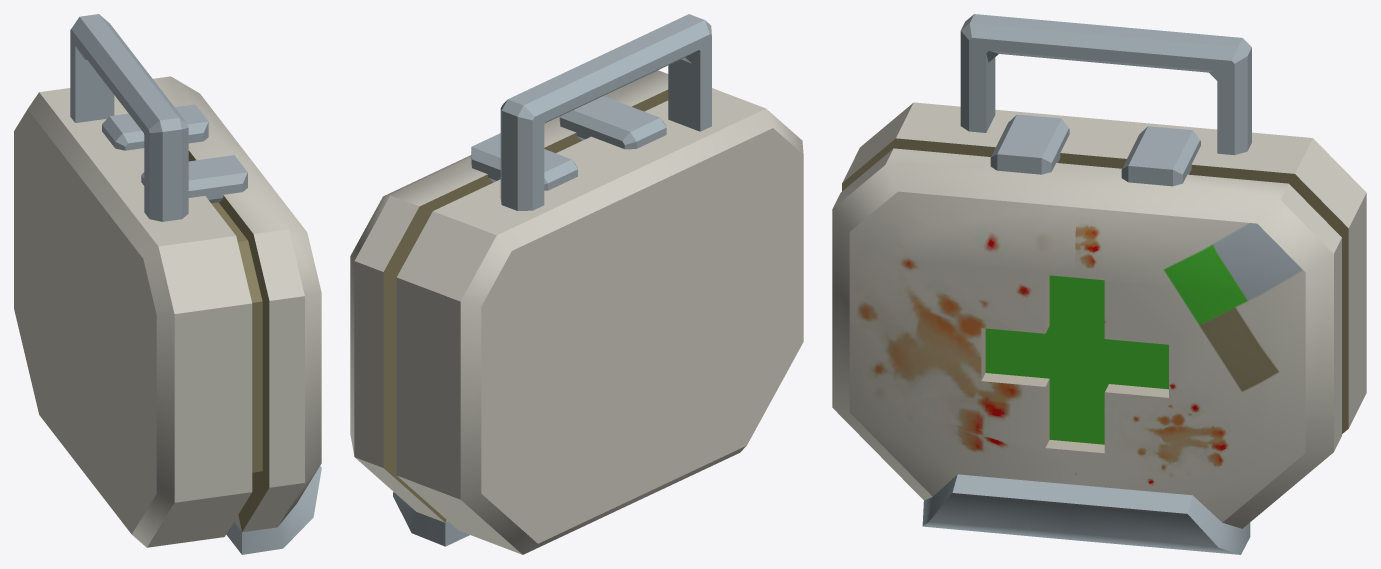
Rendered from Medkit.fbx.
3 views of the same model, side by side, from view 1: azimuth 30°, elevation 25°; view 2: azimuth 150°, elevation 25°; view 3: azimuth 270°, elevation 25° (orthographic). The views are drawn at different scales.
Visible parts, largest first — view 1: mdlMedkit; view 2: mdlMedkit; view 3: mdlMedkit.
Part boxes in pixels (x1,y1,x2,y2): mdlMedkit: [14, 14, 321, 554]; mdlMedkit: [350, 14, 803, 554]; mdlMedkit: [832, 14, 1366, 554].
Bounding box in the file's own units: 0.232 × 0.4007 × 0.4201.
1 material, 1 textured.
